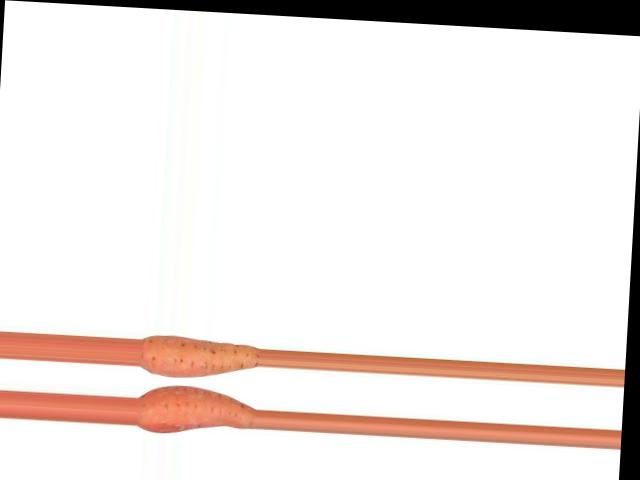sweet_potato: (139, 335, 256, 382)
